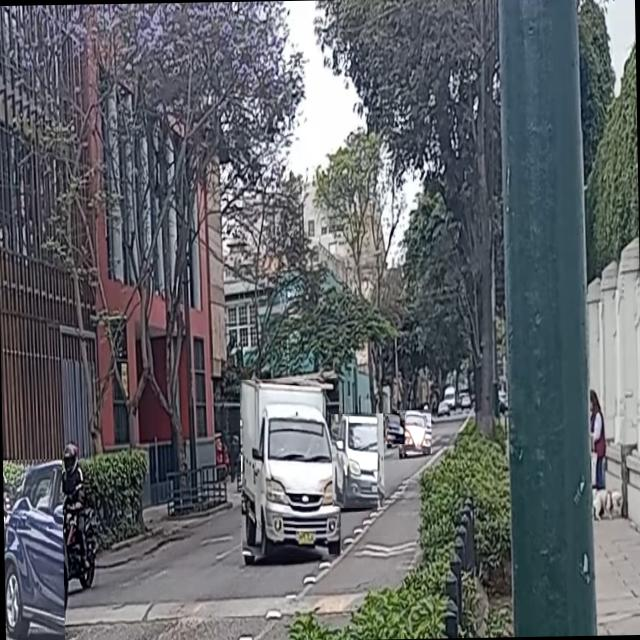car: (2, 458, 64, 640), (330, 413, 384, 508), (396, 409, 432, 454), (385, 412, 406, 443)
motorcycle: (46, 479, 98, 586)
truck: (239, 378, 341, 555)
